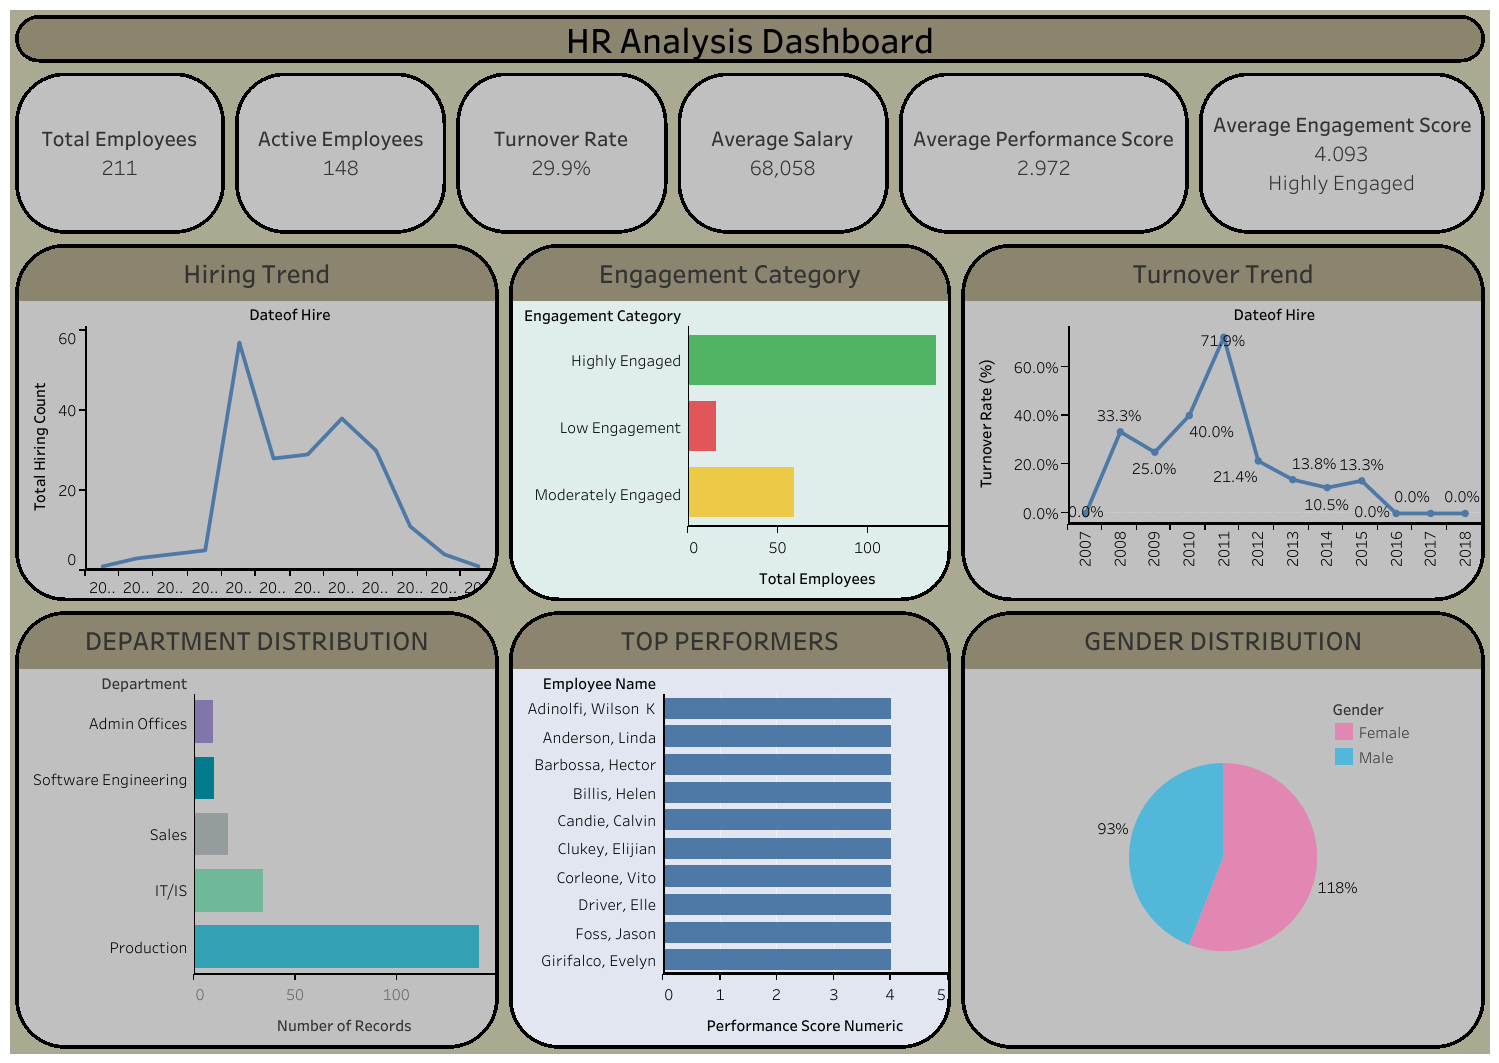

Layout of this report page (visuals, bound fields, positions):
{"tool":"tableau","page":{"name":"HR ANALYSIS DASHBOARD","canvas":[1200,851],"ordinal":4},"visuals":[{"type":"title","box":[8,8,1184,53]},{"type":"worksheet","title":"TOTAL EMPLOYEES","mark":"Automatic","box":[8,61,175.5,136]},{"type":"worksheet","title":"ACTIVE EMPLOYEES KPI","mark":"Automatic","box":[183.5,61,177.9,136]},{"type":"worksheet","title":"TURNOVER RATE KPI","mark":"Automatic","box":[361.4,61,176.3,136]},{"type":"worksheet","title":"AVERAGE SALARY KPI","mark":"Automatic","box":[537.7,61,177.5,136]},{"type":"worksheet","title":"PERFORMANCE KPI","mark":"Automatic","box":[715.2,61,239.6,136]},{"type":"worksheet","title":"Engagement","mark":"Automatic","box":[954.8,61,237.2,136]},{"type":"worksheet","title":"Hiring Trend","mark":"Line","rows":["Calculation_0338153705426948"],"cols":["DateofHire"],"box":[8,197,394.6,291.1]},{"type":"worksheet","title":"Engagement Category","mark":"Automatic","rows":["Calculation_0338153714991112"],"cols":["Calculation_0650414920638464"],"box":[402.6,197,362.4,291]},{"type":"worksheet","title":"Turnover Trend","mark":"Automatic","rows":["Calculation_0650414921289731"],"cols":["DateofHire"],"box":[765,197,427,291.1]},{"type":"worksheet","title":"DEPARTMENT DISTRIBUTION","mark":"Automatic","rows":["Department"],"cols":["Calculation_0338153691168768"],"box":[8,488,394.6,355]},{"type":"worksheet","title":"TOP PERFORMERS","mark":"Bar","rows":["Employee_Name"],"cols":["Calculation_0650414930292745"],"box":[402.6,488,362.4,355]},{"type":"worksheet","title":"GENDER DISTRIBUTION","mark":"Pie","box":[765,488,427,355]},{"type":"legend","title":"GENDER DISTRIBUTION","param":"[federated.01hf35v0s3wyu616nczbh0dkg4ld].[none:Calculation_0338153697202177:nk]","box":[1065.3,556,102.8,64]}]}

Visuals, with their boxes in screenshot pixels (x1, y1, x2, y2), scaled from the page's 1200x851 canvas onto the 1499x1063 screenshot:
title: {"left": 10, "top": 10, "right": 1489, "bottom": 76}
"TOTAL EMPLOYEES" worksheet: {"left": 10, "top": 76, "right": 229, "bottom": 246}
"ACTIVE EMPLOYEES KPI" worksheet: {"left": 229, "top": 76, "right": 451, "bottom": 246}
"TURNOVER RATE KPI" worksheet: {"left": 451, "top": 76, "right": 672, "bottom": 246}
"AVERAGE SALARY KPI" worksheet: {"left": 672, "top": 76, "right": 893, "bottom": 246}
"PERFORMANCE KPI" worksheet: {"left": 893, "top": 76, "right": 1193, "bottom": 246}
"Engagement" worksheet: {"left": 1193, "top": 76, "right": 1489, "bottom": 246}
"Hiring Trend" worksheet (Line marks): {"left": 10, "top": 246, "right": 503, "bottom": 610}
"Engagement Category" worksheet: {"left": 503, "top": 246, "right": 956, "bottom": 610}
"Turnover Trend" worksheet: {"left": 956, "top": 246, "right": 1489, "bottom": 610}
"DEPARTMENT DISTRIBUTION" worksheet: {"left": 10, "top": 610, "right": 503, "bottom": 1053}
"TOP PERFORMERS" worksheet (Bar marks): {"left": 503, "top": 610, "right": 956, "bottom": 1053}
"GENDER DISTRIBUTION" worksheet (Pie marks): {"left": 956, "top": 610, "right": 1489, "bottom": 1053}
"GENDER DISTRIBUTION" legend: {"left": 1331, "top": 695, "right": 1459, "bottom": 774}
